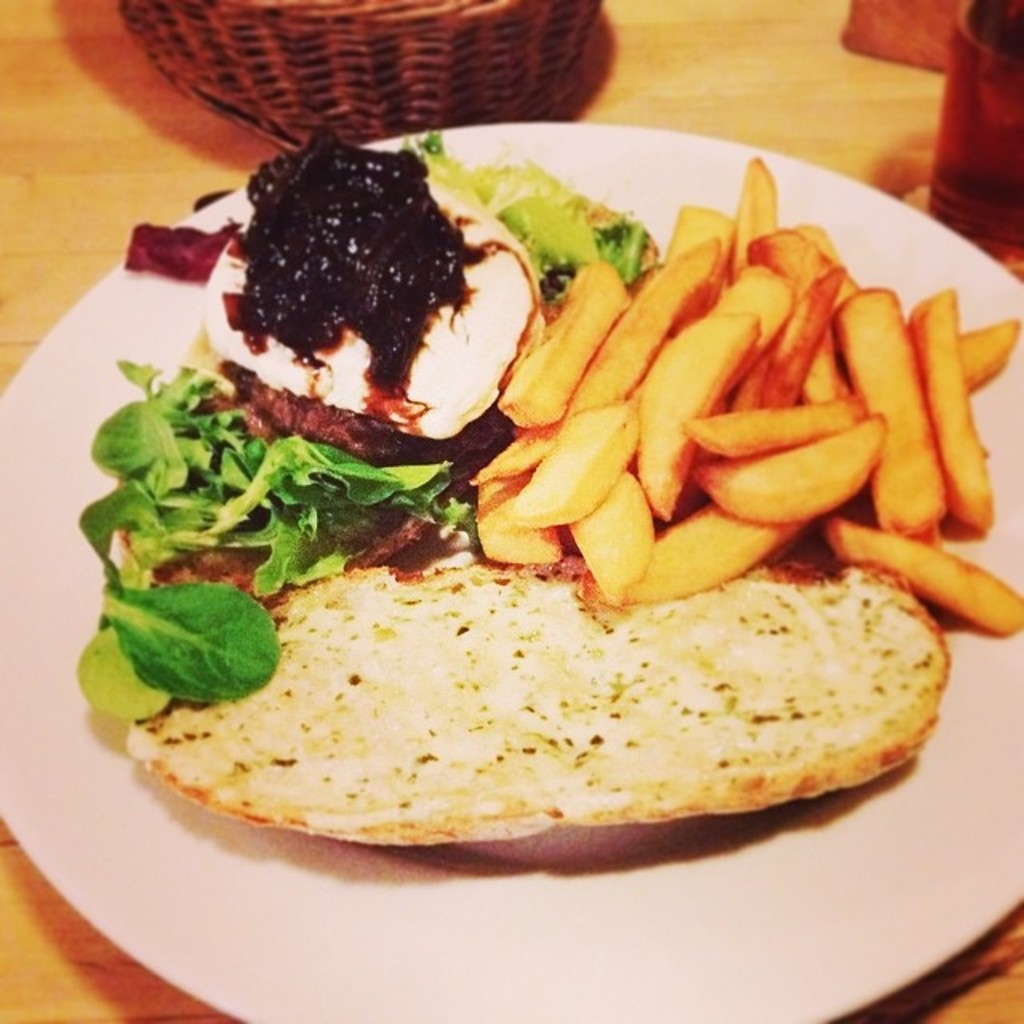French fries: (451, 187, 992, 640)
